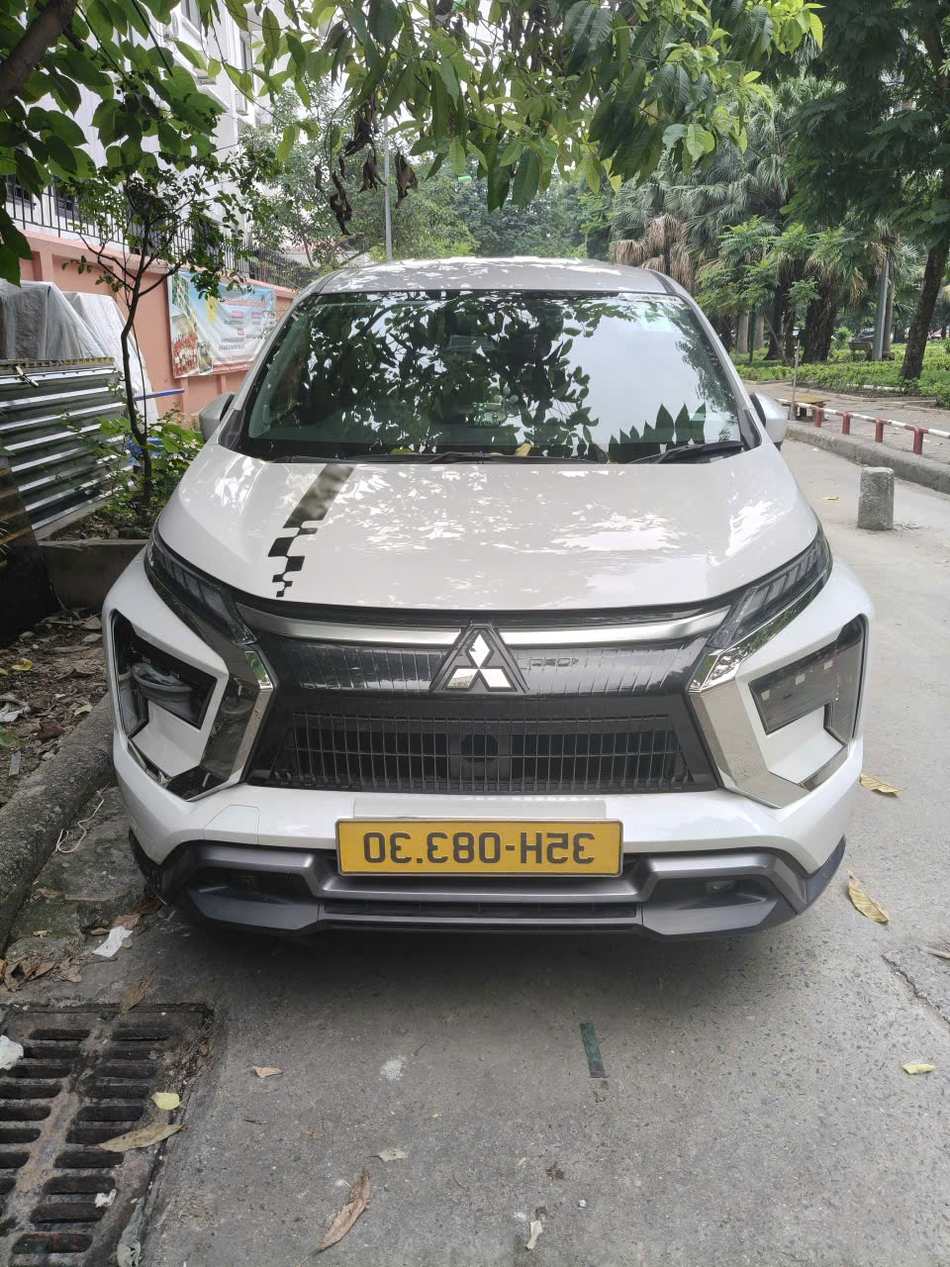plate: (638, 901, 778, 936)
